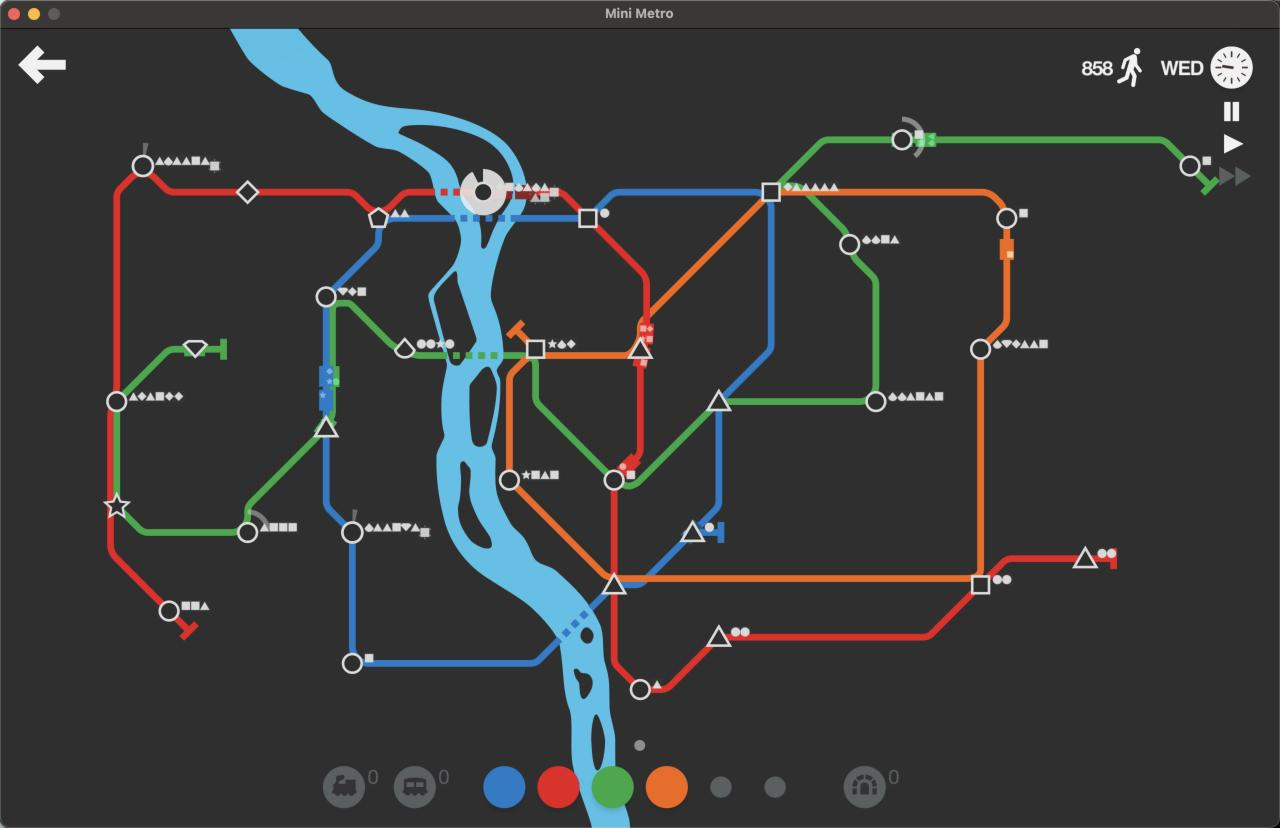CIRCLE: (340, 520, 364, 544), (891, 127, 914, 151), (341, 652, 364, 675), (237, 521, 259, 544), (603, 468, 625, 491), (131, 155, 154, 177), (314, 285, 336, 308), (105, 391, 128, 413), (970, 338, 992, 361), (865, 390, 887, 413), (1179, 154, 1201, 177), (158, 600, 180, 622), (629, 678, 651, 700), (996, 207, 1018, 229), (839, 233, 861, 255), (499, 469, 520, 491), (473, 181, 493, 203)
DIAMOND: (182, 339, 209, 358)
GEM: (236, 179, 259, 204)
PENTAGON: (367, 207, 388, 229)
SQUARE: (525, 339, 546, 359), (761, 182, 781, 202), (971, 575, 991, 595), (578, 209, 598, 228)
STAR: (103, 493, 131, 519)
TRIANGLE: (626, 337, 654, 363), (706, 388, 733, 413), (680, 519, 706, 544), (313, 415, 340, 439), (601, 572, 628, 595), (706, 624, 731, 648), (1072, 546, 1098, 569)
WEDGE: (394, 337, 416, 359)
